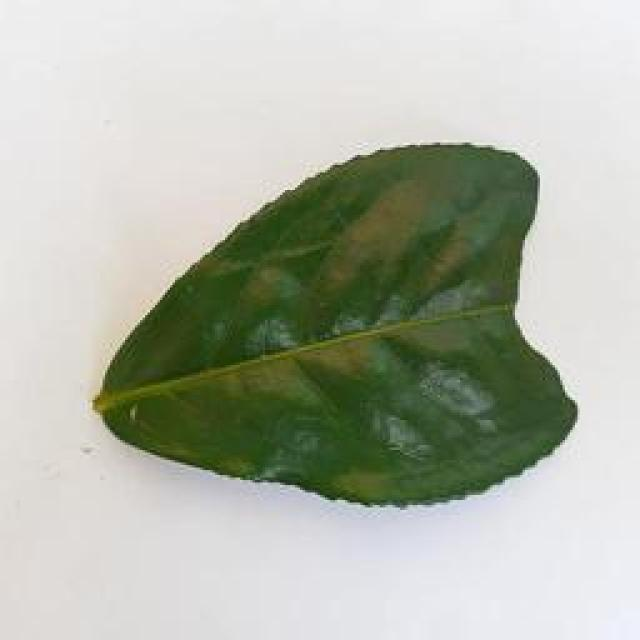Healthy: (103, 127, 576, 514)
